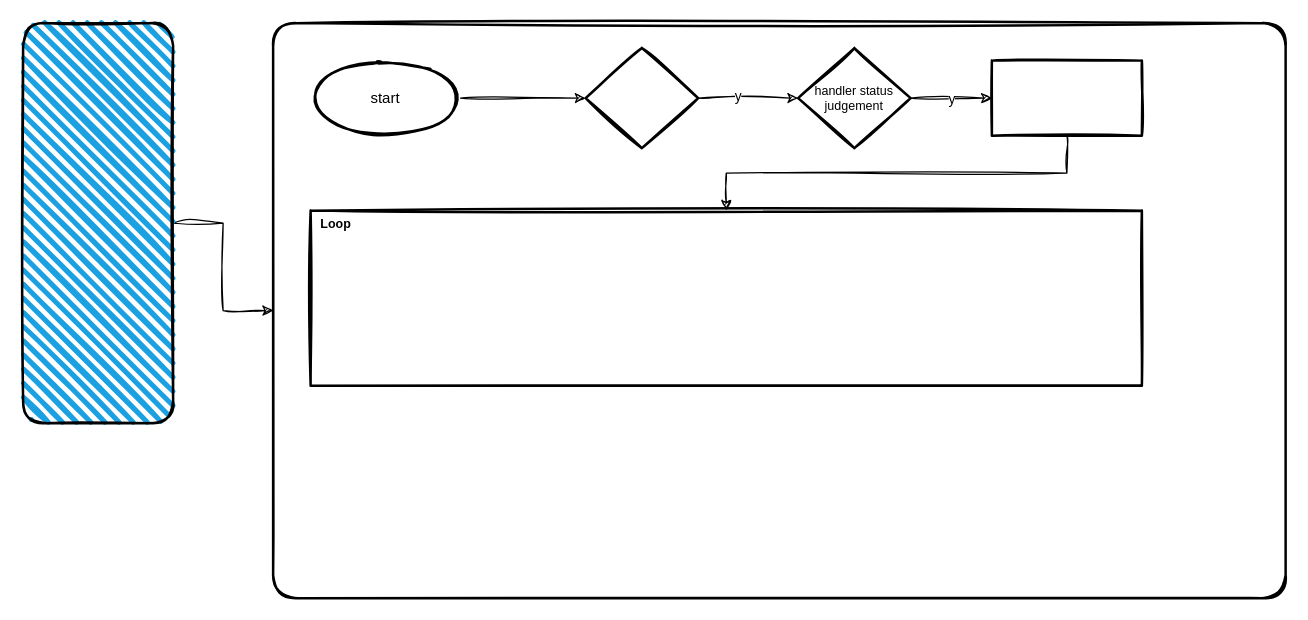
This 1308x620 diagram has some shape labels left out. The shapes that lost their labels are listed below. From the top down, each one's centre as x and y in pixels, then its label:
(x=641, y=97): isProcess judgement execute time and dynamic switch
(x=1066, y=97): mark the related handler as running
